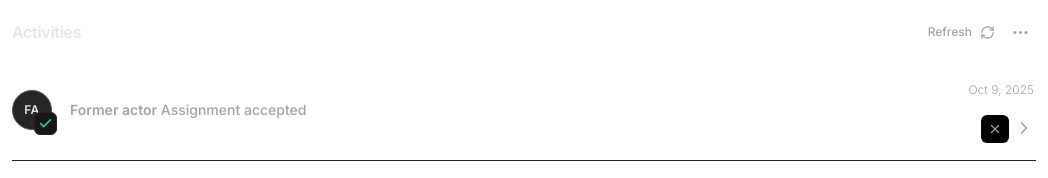
Test: TileShareActivityTimeline › refresh replaces old identity attribution instead of merging it back
Expected: the text "Former actor" is shown, [70,101,157,118]
Click the button "Refresh". click: (961, 32)
box: [924,15,999,49]
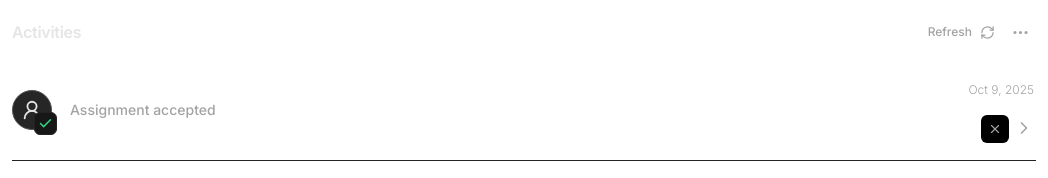
Expected: the text "Assignment accepted" is shown, [70,101,216,118]
Expected: the link "Former actor" is gone
